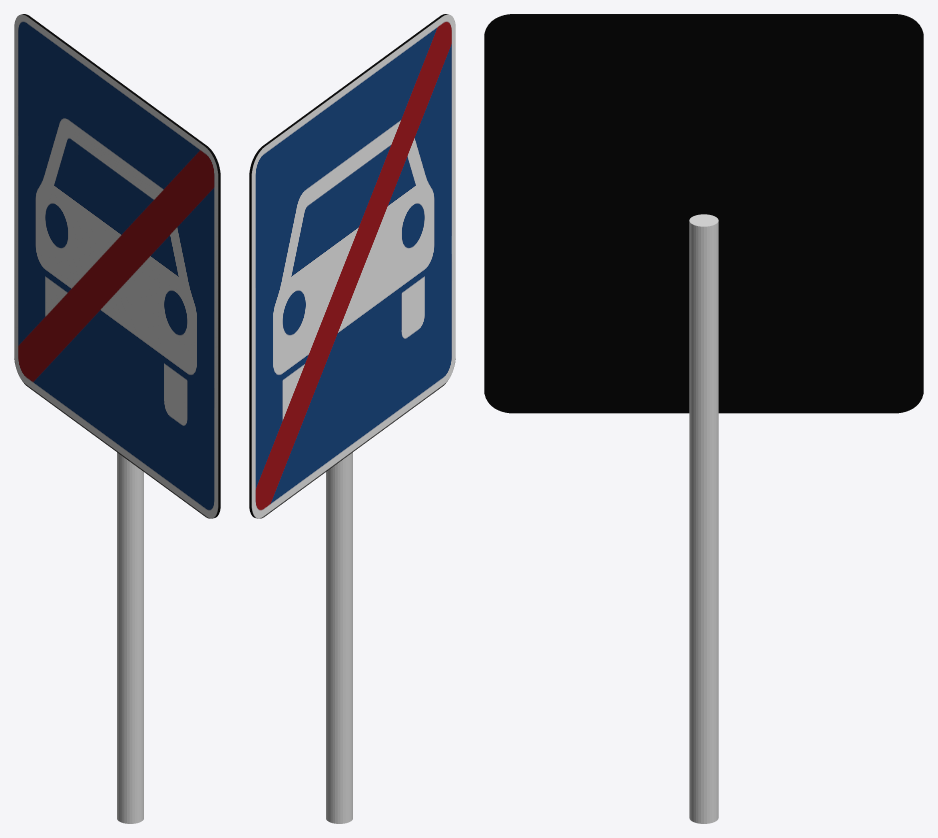
The model's file is expressway_end_sign.dae.
3 views of the same model, side by side, from view 1: azimuth 30°, elevation 25°; view 2: azimuth 150°, elevation 25°; view 3: azimuth 270°, elevation 25° (orthographic). The views are drawn at different scales.
Visible parts, largest first — view 1: path3678, Cylinder; view 2: path3678, Cylinder; view 3: path3678, Cylinder.
Part boxes in pixels (x1,y1,x2,y2): path3678: (14, 14, 220, 518); Cylinder: (117, 452, 143, 823); path3678: (249, 14, 455, 518); Cylinder: (326, 452, 352, 823); path3678: (484, 14, 923, 413); Cylinder: (689, 214, 718, 823).
Bounding box in the file's own units: 0.011 × 0.15 × 0.3.
3 materials, 2 textured.
